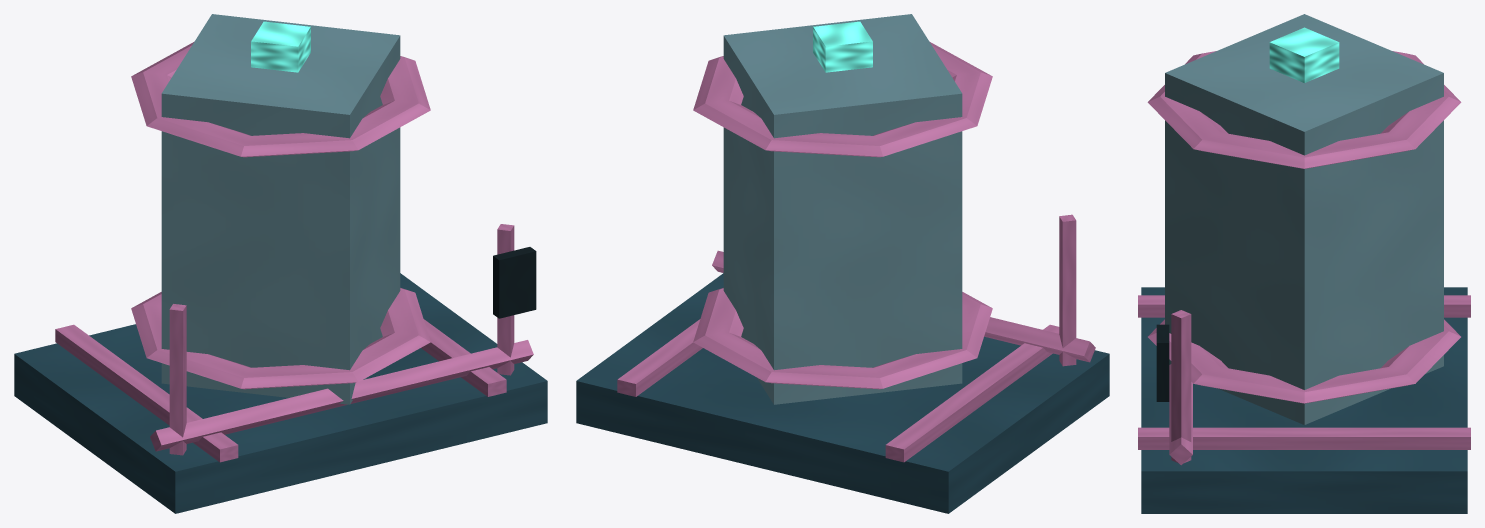
Rendered from atlas100-s064-a06.lod2.glb.
The picture shows the model from 3 angles, left to right: view 1: azimuth 30°, elevation 25°; view 2: azimuth 150°, elevation 25°; view 3: azimuth 270°, elevation 25°; orthographic projection.
Visible parts, largest first — view 1: atlas100-s064-a06:part-003, atlas100-s064-a06:part-000, atlas100-s064-a06:part-005, atlas100-s064-a06:part-004, atlas100-s064-a06:part-012, atlas100-s064-a06:part-001, atlas100-s064-a06:part-011, atlas100-s064-a06:part-006, atlas100-s064-a06:part-008, atlas100-s064-a06:part-002, atlas100-s064-a06:part-010; view 2: atlas100-s064-a06:part-003, atlas100-s064-a06:part-000, atlas100-s064-a06:part-005, atlas100-s064-a06:part-004, atlas100-s064-a06:part-001, atlas100-s064-a06:part-006, atlas100-s064-a06:part-008, atlas100-s064-a06:part-002, atlas100-s064-a06:part-012; view 3: atlas100-s064-a06:part-003, atlas100-s064-a06:part-000, atlas100-s064-a06:part-005, atlas100-s064-a06:part-002, atlas100-s064-a06:part-004, atlas100-s064-a06:part-006, atlas100-s064-a06:part-010, atlas100-s064-a06:part-001, atlas100-s064-a06:part-011, atlas100-s064-a06:part-012.
Part boxes in pixels (x1,y1,x2,y2): atlas100-s064-a06:part-003: [161, 14, 400, 404]; atlas100-s064-a06:part-000: [14, 273, 547, 513]; atlas100-s064-a06:part-005: [131, 42, 430, 157]; atlas100-s064-a06:part-004: [131, 288, 430, 389]; atlas100-s064-a06:part-012: [150, 340, 533, 451]; atlas100-s064-a06:part-001: [55, 324, 238, 462]; atlas100-s064-a06:part-011: [493, 247, 536, 318]; atlas100-s064-a06:part-006: [251, 21, 310, 72]; atlas100-s064-a06:part-008: [169, 304, 186, 455]; atlas100-s064-a06:part-002: [421, 319, 506, 396]; atlas100-s064-a06:part-010: [497, 224, 514, 375]; atlas100-s064-a06:part-003: [723, 14, 962, 404]; atlas100-s064-a06:part-000: [576, 273, 1109, 513]; atlas100-s064-a06:part-005: [693, 42, 992, 157]; atlas100-s064-a06:part-004: [693, 288, 992, 389]; atlas100-s064-a06:part-001: [885, 324, 1059, 462]; atlas100-s064-a06:part-006: [813, 21, 872, 72]; atlas100-s064-a06:part-008: [1059, 214, 1076, 366]; atlas100-s064-a06:part-002: [617, 319, 702, 396]; atlas100-s064-a06:part-012: [712, 250, 1095, 362]; atlas100-s064-a06:part-003: [1165, 14, 1443, 424]; atlas100-s064-a06:part-000: [1141, 287, 1467, 513]; atlas100-s064-a06:part-005: [1147, 51, 1461, 168]; atlas100-s064-a06:part-002: [1138, 427, 1470, 449]; atlas100-s064-a06:part-004: [1148, 319, 1460, 403]; atlas100-s064-a06:part-006: [1269, 27, 1339, 82]; atlas100-s064-a06:part-010: [1171, 310, 1191, 463]; atlas100-s064-a06:part-001: [1138, 295, 1470, 317]; atlas100-s064-a06:part-011: [1156, 324, 1169, 401]; atlas100-s064-a06:part-012: [1169, 364, 1192, 465].
Bounding box in the file's own units: 2.4 × 2.31 × 1.84.
Materials: 5 (5 with a texture image).
